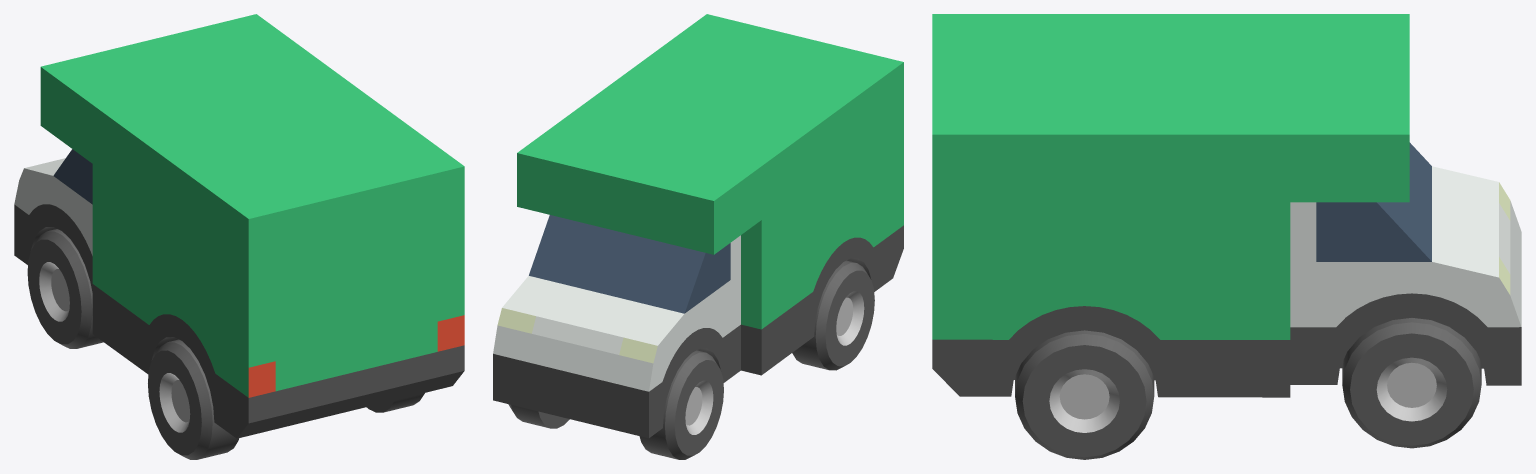
The model's file is carDelivery.fbx.
The picture shows the model from 3 angles, left to right: view 1: azimuth 30°, elevation 25°; view 2: azimuth 150°, elevation 25°; view 3: azimuth 270°, elevation 25°; orthographic projection. The views are drawn at different scales.
Visible parts, largest first — view 1: body 1, wheelBackLeft 1, wheelFrontLeft 1, wheelBackRight 1; view 2: body 1, wheelBackLeft 1, wheelFrontLeft 1, wheelFrontRight 1; view 3: body 1, wheelFrontRight 1, wheelBackRight 1.
Part boxes in pixels (x1,y1,x2,y2): body 1: (14, 14, 464, 438); wheelBackLeft 1: (148, 339, 238, 459); wheelFrontLeft 1: (27, 229, 103, 348); wheelBackRight 1: (366, 393, 424, 412); body 1: (493, 14, 903, 438); wheelBackLeft 1: (792, 260, 874, 370); wheelFrontLeft 1: (639, 350, 723, 459); wheelFrontRight 1: (508, 404, 569, 428); body 1: (932, 14, 1521, 397); wheelFrontRight 1: (1342, 318, 1481, 448); wheelBackRight 1: (1015, 330, 1154, 459).
Bounding box in the file's own units: 6.15 × 7.27 × 11.85.
